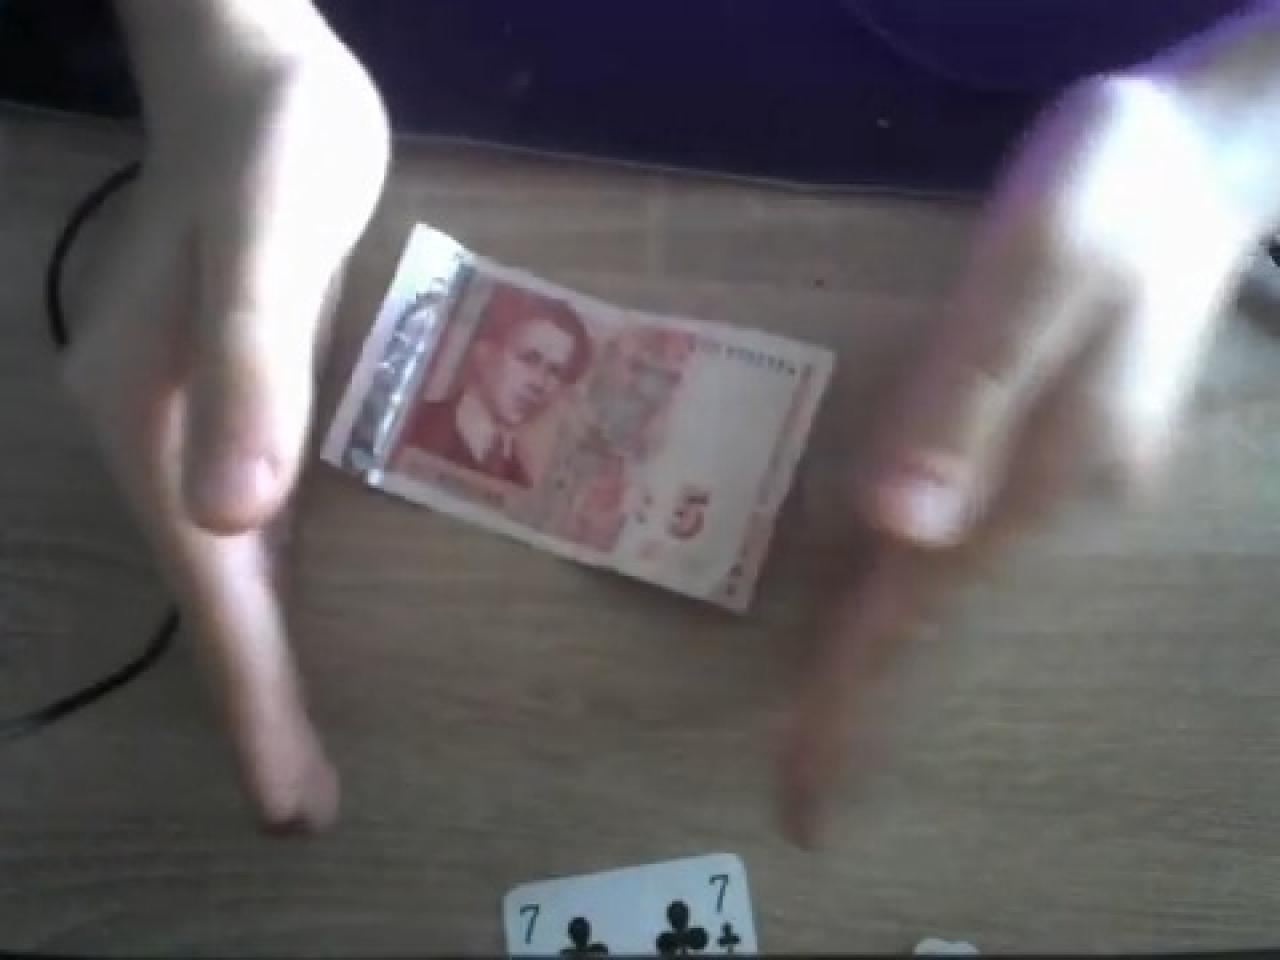5leva: (320, 227, 837, 619)
